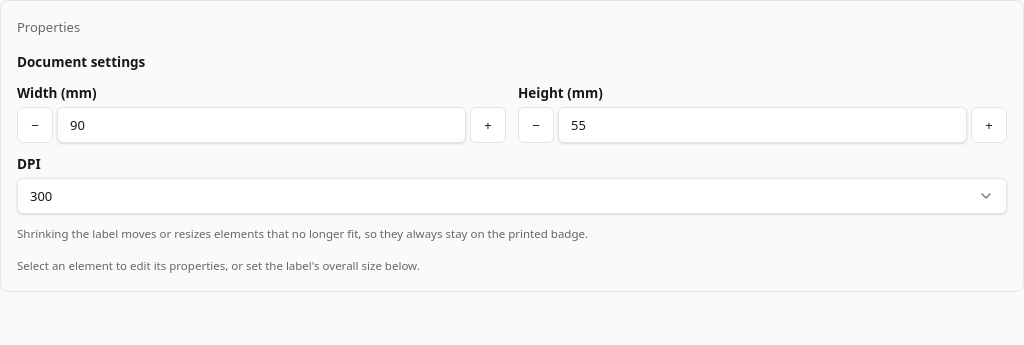
PropertiesPane › empty state (document settings) › lists 203/300/600 as the DPI options
This screenshot has width=1024, height=345.
Click the dropdown named "DPI" at (41, 196), box [17,178,1007,214]
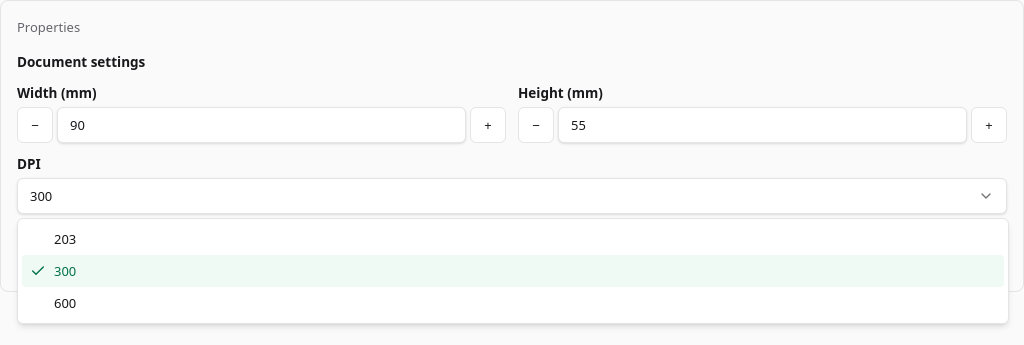
Now the options read "203", "300", "600", in this order, box [54,230,76,248]; [22,255,1004,287]; [54,294,76,312]
